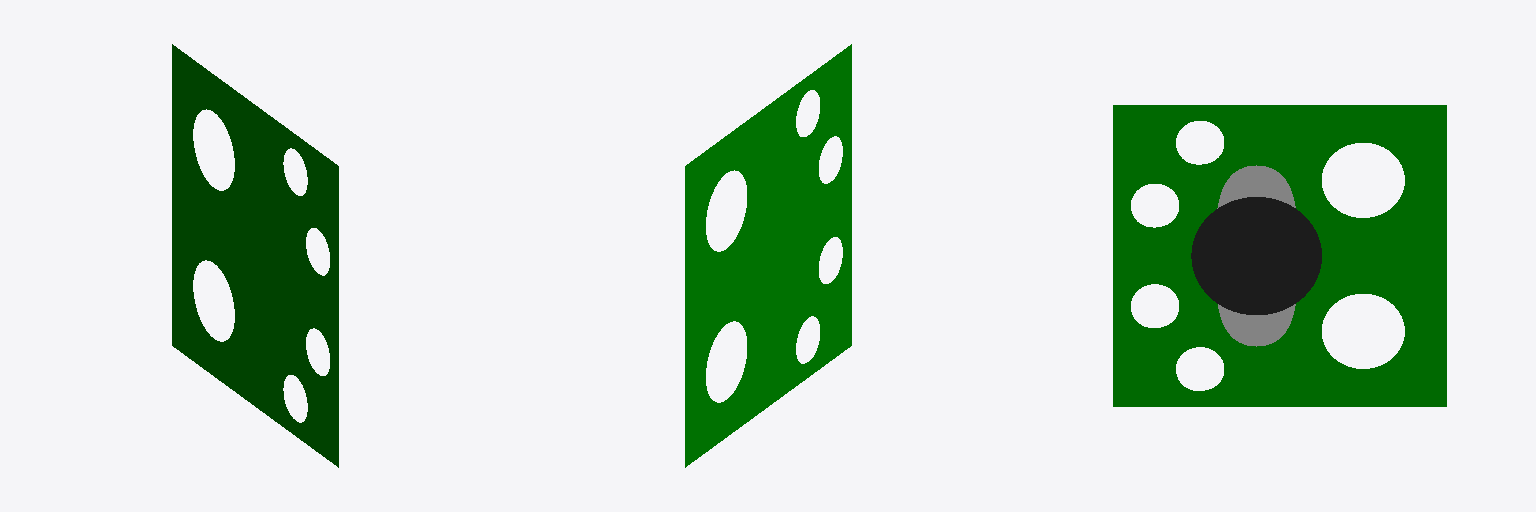
Rendered from shooter2014.obj.
3 views of the same model, side by side, from view 1: azimuth 30°, elevation 25°; view 2: azimuth 150°, elevation 25°; view 3: azimuth 270°, elevation 25° (orthographic).
Parts seen in each view (by area): view 1: BezierCircle; view 2: BezierCircle; view 3: BezierCircle, BezierCircle.001, BezierCircle.002_BezierCircle.003.
Boxes of the visible parts, <box> form: BezierCircle: <box>172,44,338,467</box>; BezierCircle: <box>685,44,851,467</box>; BezierCircle: <box>1113,105,1446,406</box>; BezierCircle.001: <box>1191,197,1321,314</box>; BezierCircle.002_BezierCircle.003: <box>1217,165,1295,346</box>.
Bounding box in the file's own units: 0.0025 × 1.22 × 1.22.